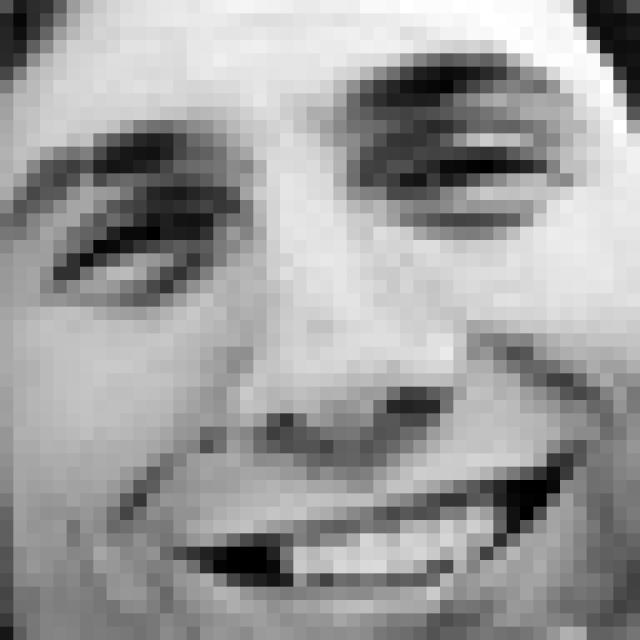happy: (5, 44, 640, 630)
